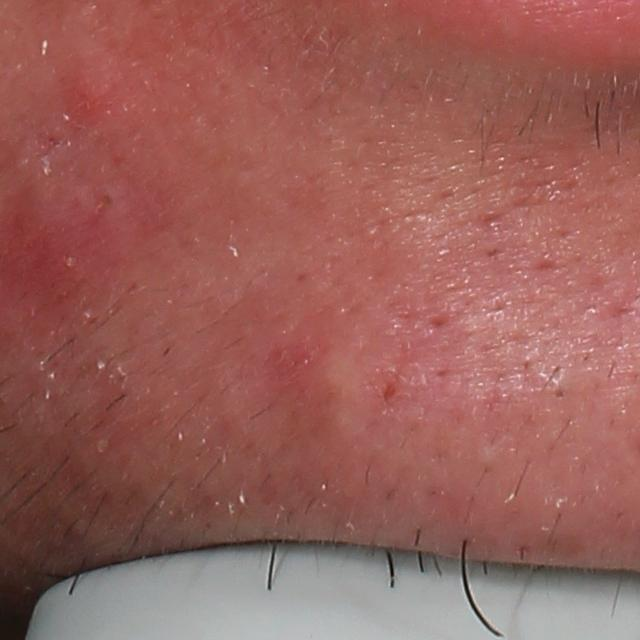comedo: (298, 355, 359, 439), (545, 381, 571, 403)
papule: (0, 195, 121, 298), (62, 60, 127, 131)
